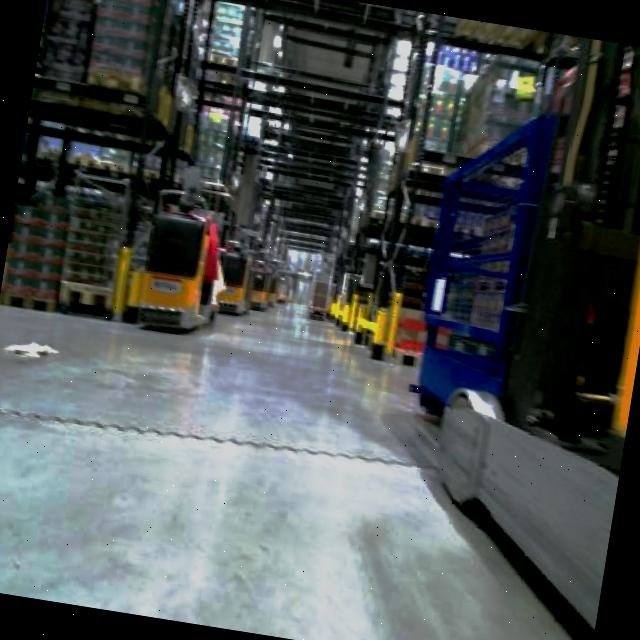ground: (0, 253, 639, 640)
pallet: (403, 19, 640, 463), (404, 94, 560, 433), (174, 52, 409, 269), (0, 76, 178, 326), (378, 152, 527, 330), (0, 185, 134, 322), (54, 169, 138, 319), (315, 277, 433, 367), (0, 191, 74, 313)
